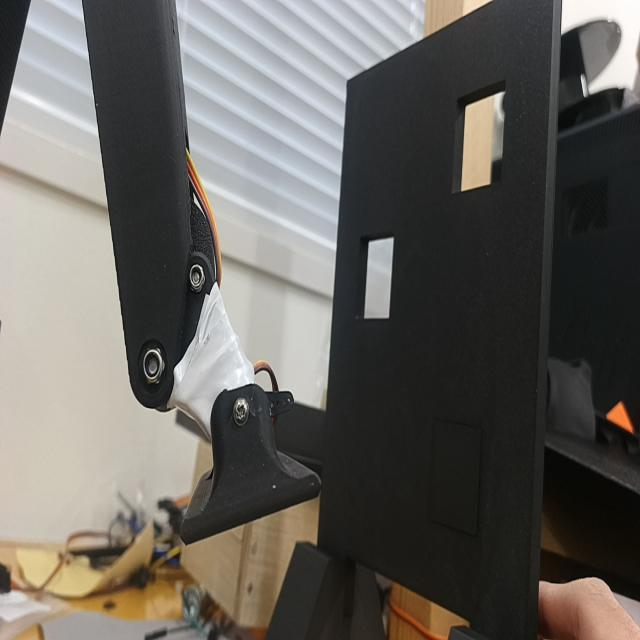Obstacle: (451, 76, 507, 194), (359, 230, 396, 316)
Wall: (319, 0, 560, 639)
